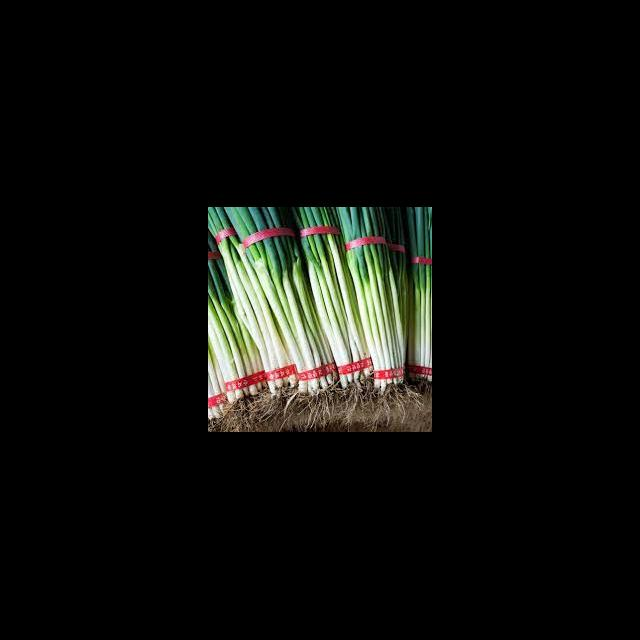green_onion: (225, 208, 342, 420), (290, 208, 375, 404), (333, 208, 406, 408)
